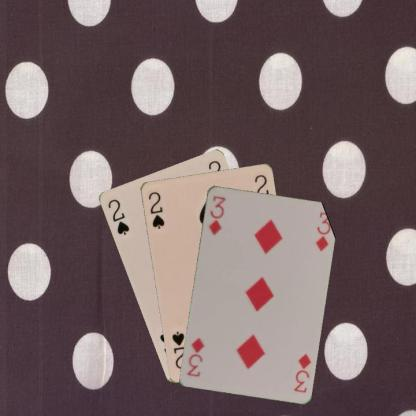2s: (105, 196, 131, 236), (146, 189, 166, 230)
3d: (291, 350, 312, 394), (206, 193, 227, 236)
